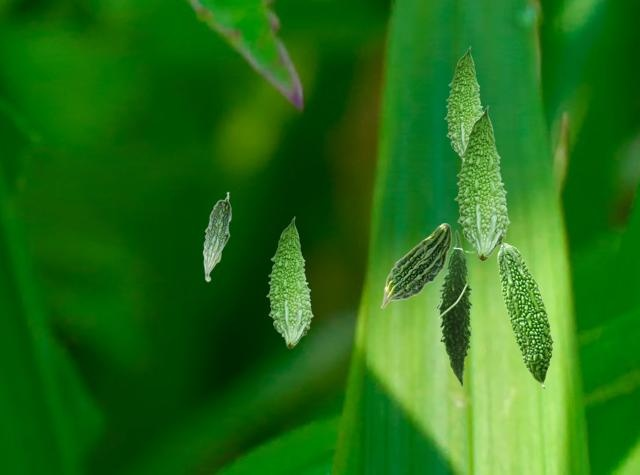ampalaya: (454, 105, 510, 261), (497, 242, 554, 389), (435, 229, 477, 387), (265, 216, 314, 349), (380, 222, 452, 309), (444, 45, 483, 161), (202, 191, 232, 282)
